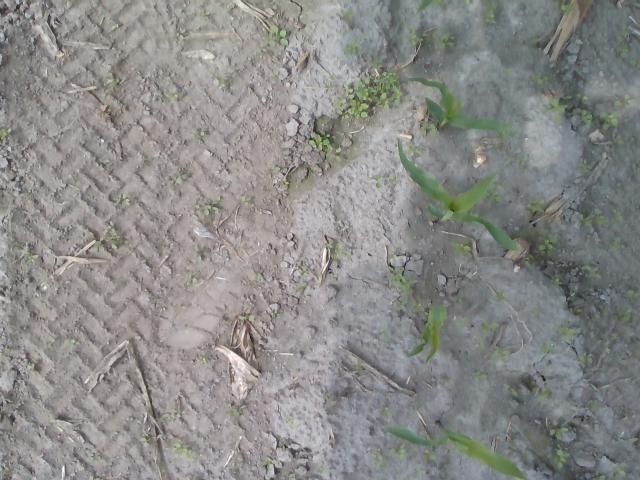Maize: (390, 137, 520, 251), (382, 420, 529, 480), (394, 75, 512, 134), (408, 302, 449, 364)
Weeds: (334, 72, 406, 121), (386, 266, 418, 313), (90, 224, 128, 252), (574, 208, 624, 229), (255, 24, 289, 54), (308, 132, 342, 161), (616, 287, 640, 326), (454, 314, 498, 335), (614, 30, 634, 56), (599, 110, 620, 134), (546, 97, 566, 122), (172, 442, 198, 461), (447, 240, 472, 258), (549, 448, 570, 468), (331, 241, 353, 258), (482, 191, 506, 206), (582, 262, 602, 280), (484, 1, 498, 26), (369, 452, 388, 470), (526, 198, 547, 214), (491, 345, 512, 361), (616, 93, 634, 111), (162, 86, 182, 102), (202, 202, 222, 218), (438, 31, 456, 48), (113, 192, 133, 206), (388, 446, 408, 460), (408, 31, 424, 48), (554, 0, 572, 15), (610, 132, 628, 147), (610, 464, 626, 480), (608, 238, 625, 253), (531, 72, 549, 86), (344, 40, 359, 55), (504, 383, 520, 397), (576, 160, 592, 174), (586, 398, 602, 412), (537, 237, 553, 251), (578, 352, 594, 366), (533, 388, 551, 400), (579, 109, 593, 124), (560, 328, 576, 341), (343, 9, 358, 22), (368, 174, 384, 186), (494, 292, 508, 305), (540, 340, 554, 353), (410, 301, 425, 313), (406, 144, 421, 156), (550, 427, 568, 437), (422, 448, 433, 464), (261, 457, 277, 468), (471, 372, 488, 382), (224, 406, 240, 416), (550, 276, 563, 288), (237, 314, 255, 322), (576, 92, 590, 102), (298, 265, 310, 276), (381, 408, 394, 418), (175, 174, 188, 183), (270, 165, 282, 174), (520, 256, 530, 266), (256, 272, 266, 282), (284, 414, 294, 424), (594, 473, 608, 480), (455, 295, 465, 304), (270, 70, 278, 81), (26, 255, 35, 264), (202, 356, 209, 364), (26, 363, 32, 369)
